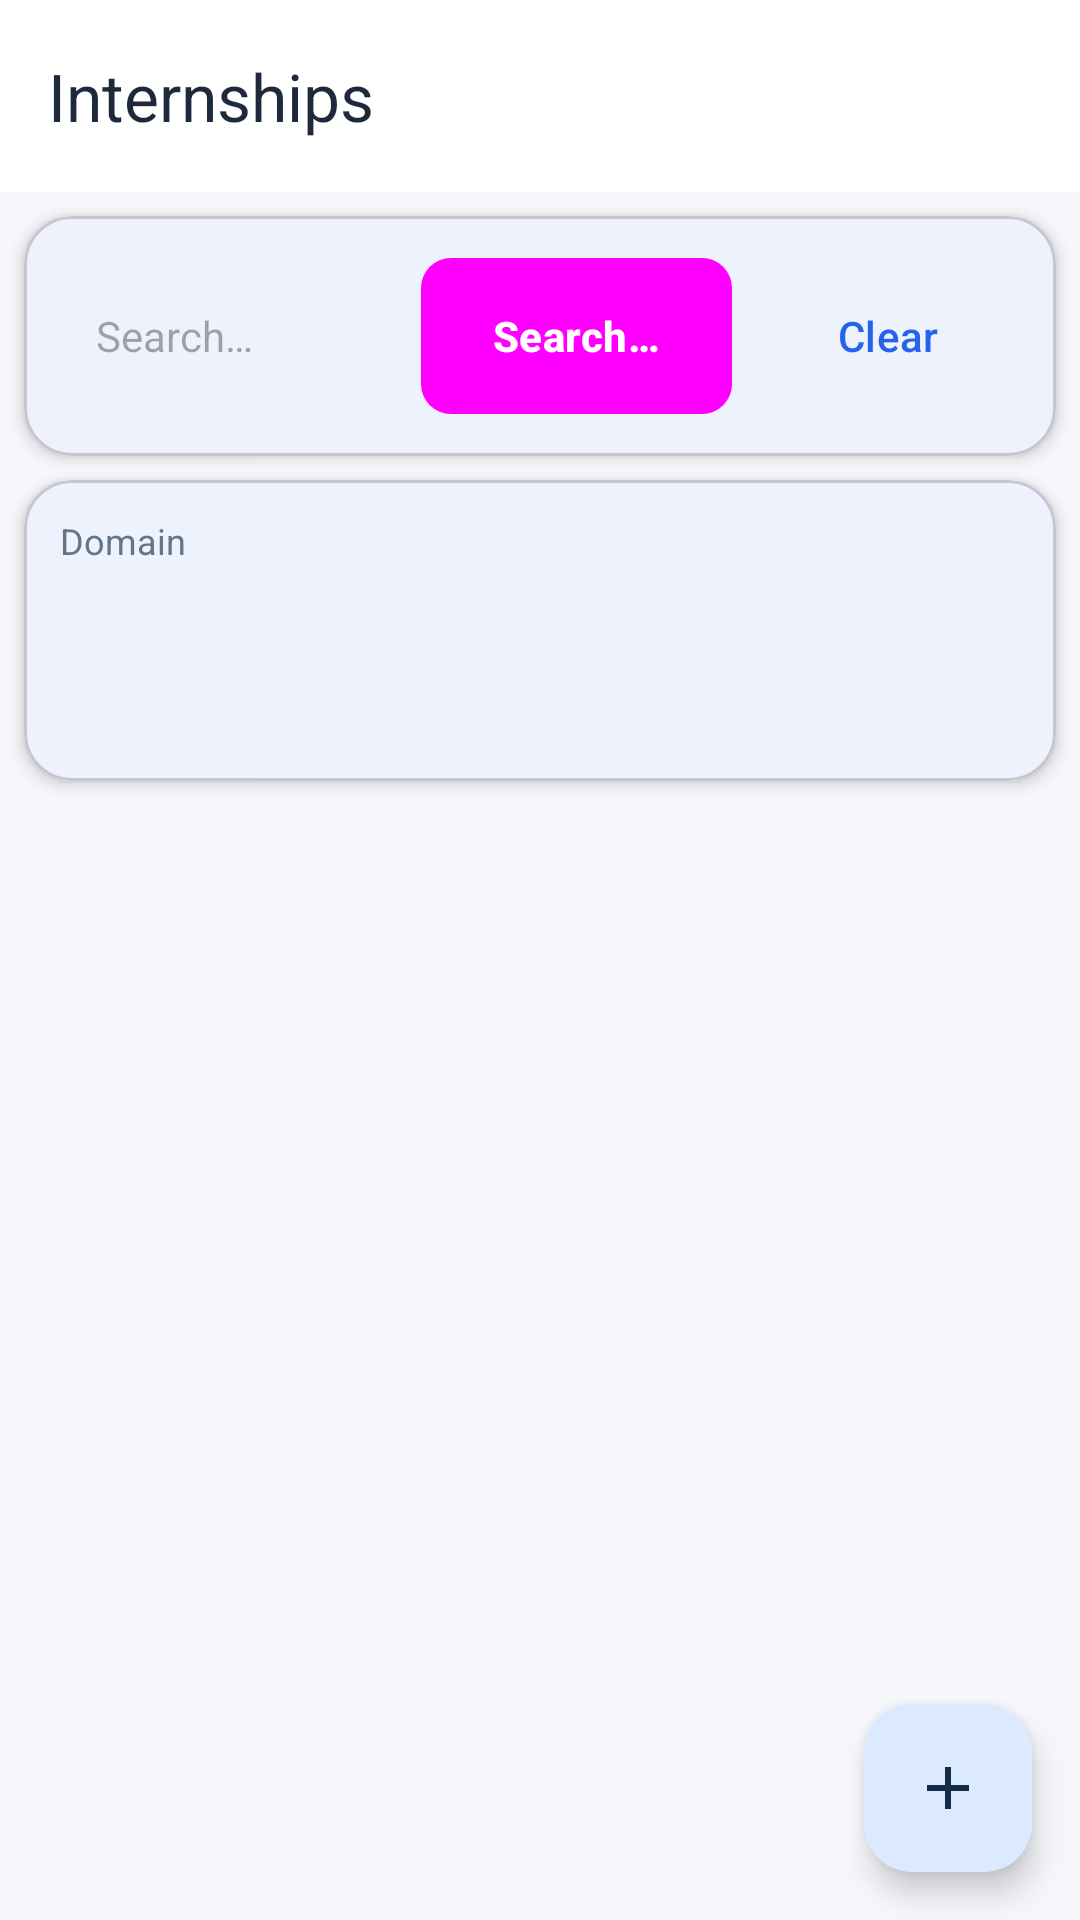

Screen size 1080x1920. Icon name, then its box in pixels as [x1, y1, x2, y2]:
Add internship: [864, 1704, 1032, 1872]
